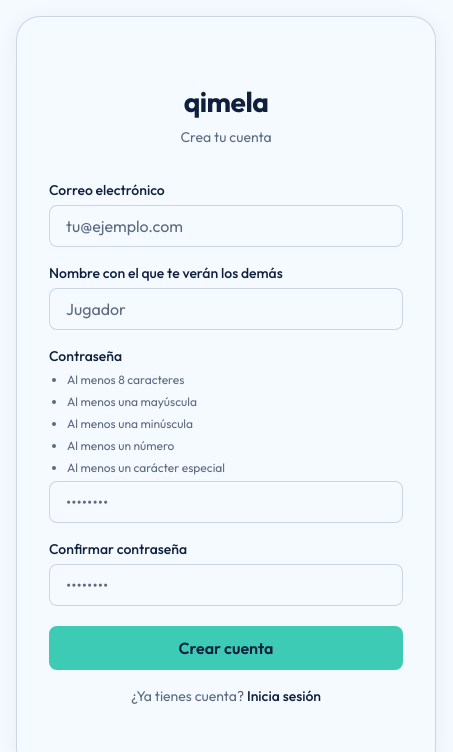
it: RegisterPage › shows an error when the display name contains unsupported characters
Type "camilo@ramones" into the field labelled "Nombre con el que te verán los demás" at (226, 309), box x1=49 y1=288 x2=403 y2=330
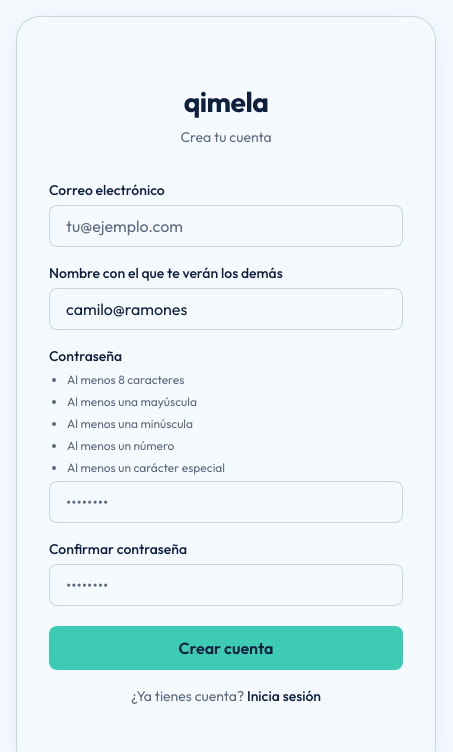
Type "new@example.com" into the field labelled "Correo electrónico" at (226, 226), box x1=49 y1=205 x2=403 y2=247
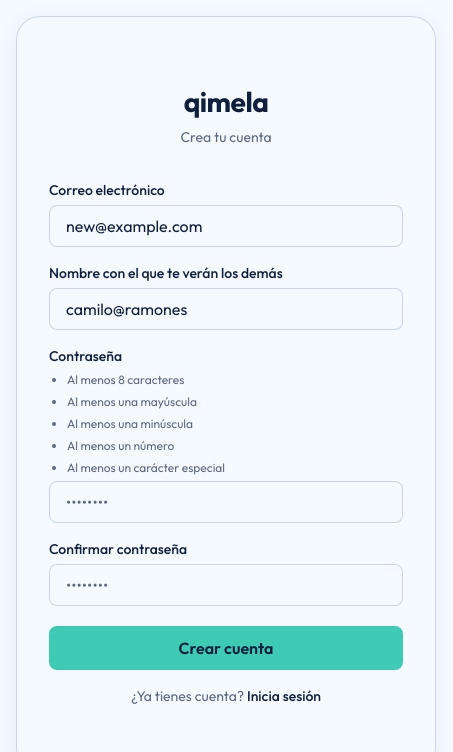
Type "Password1!" into the password field labelled "Contraseña" at (226, 502), box x1=49 y1=481 x2=403 y2=523
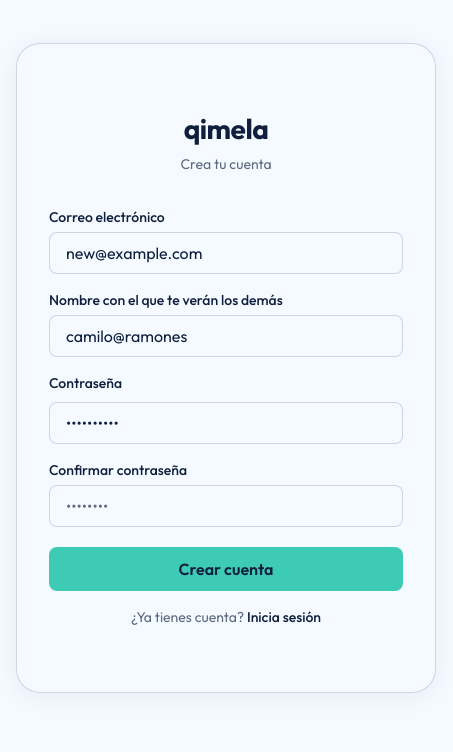
Type "Password1!" into the password field labelled "Confirmar contraseña" at (226, 506), box x1=49 y1=485 x2=403 y2=527
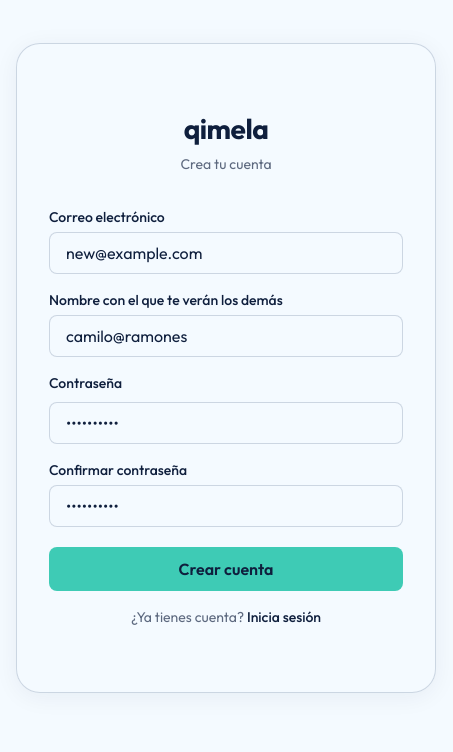
Click the button "Crear cuenta" at (226, 569), box x1=49 y1=547 x2=403 y2=591
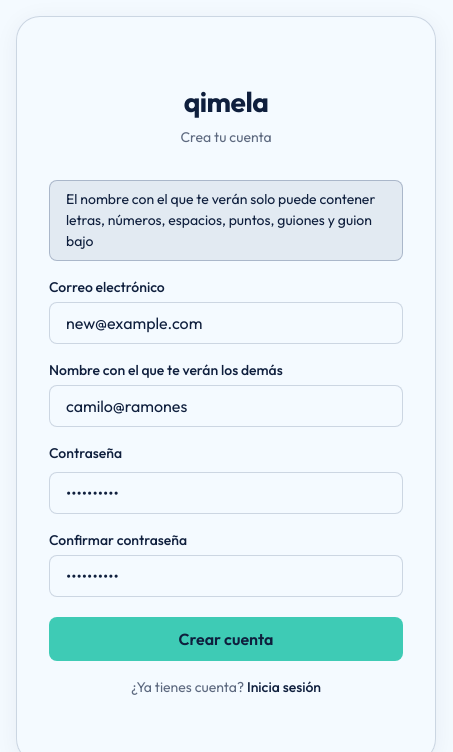
Now the text "El nombre con el que te verán solo puede contener letras, números, espacios, puntos, guiones y guion bajo" is shown, box x1=66 y1=190 x2=375 y2=250
